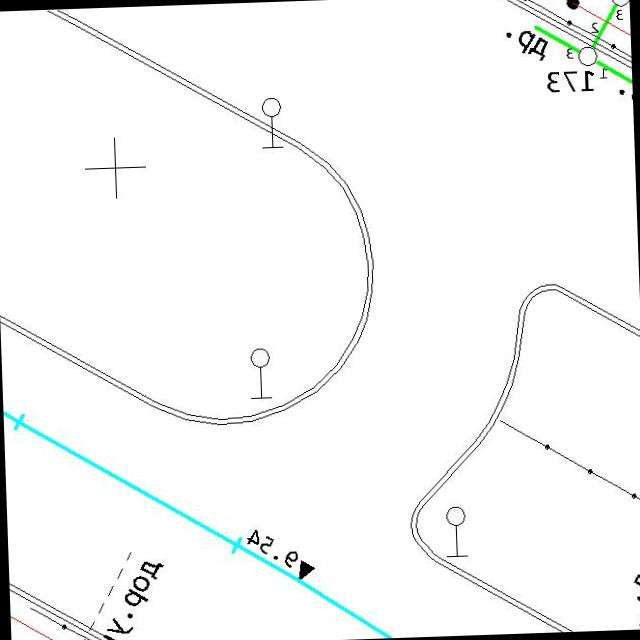mark: (294, 558, 317, 582)
sing: (247, 344, 274, 402), (258, 95, 286, 150), (443, 504, 468, 559)
well: (576, 44, 600, 68)
